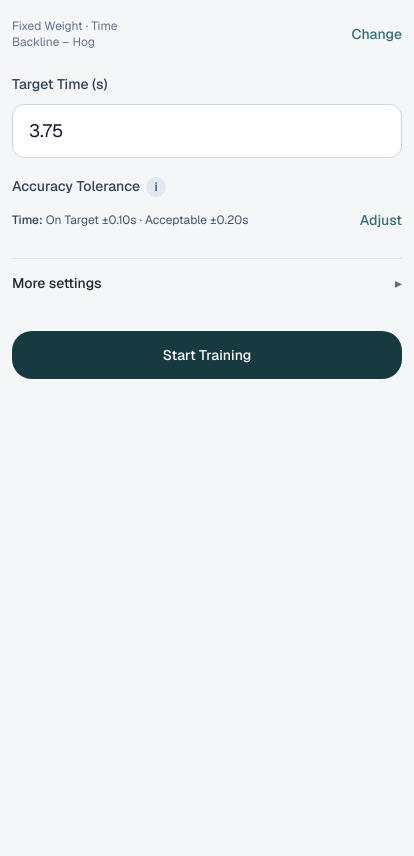
it: the measurement selection is offered only where it applies › is not offered for Blind Weight, which measures time
Click the button "Change".
click(377, 34)  # box [352,12,402,56]
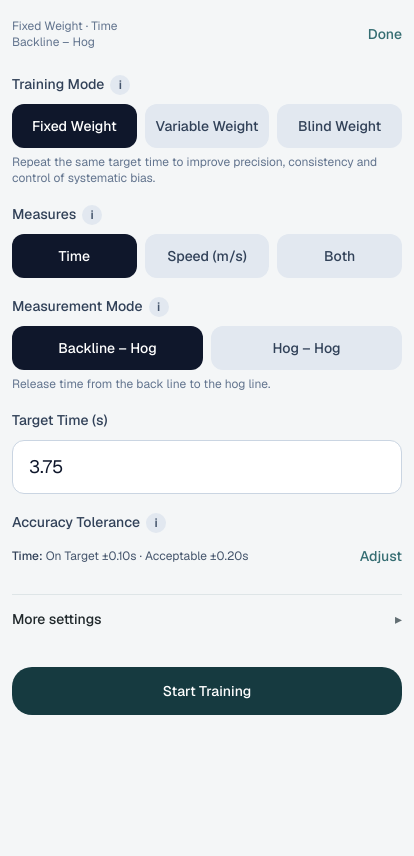
expect the element named "Measures" is shown: met, box [12,234,402,278]
Click the button "Blind Weight".
click(340, 126)  # box [277,104,402,148]
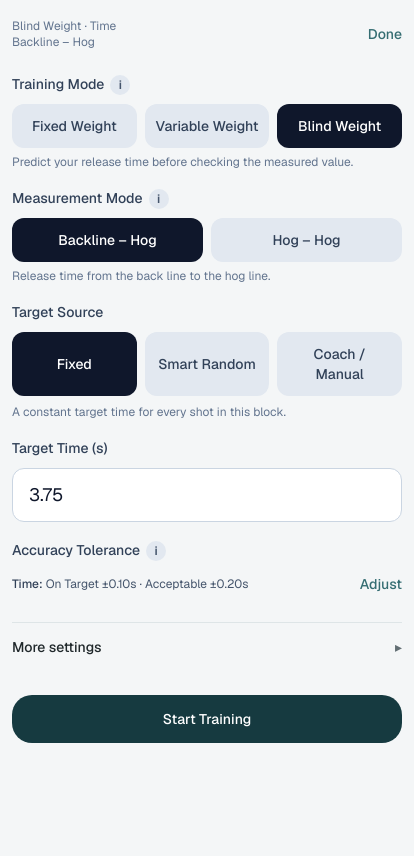
expect the text "Measures" is gone: met
